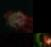eye: (0, 0, 33, 33)
